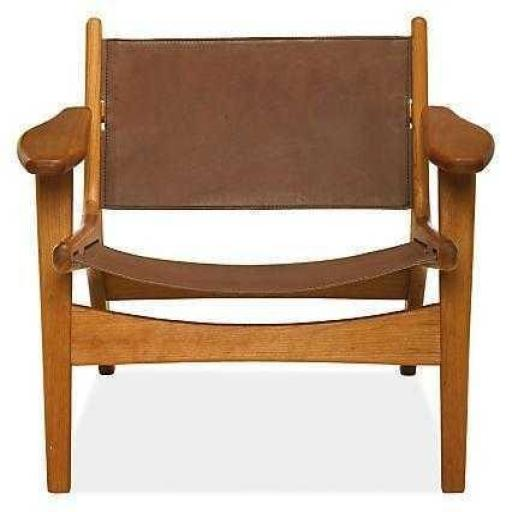chair: (14, 8, 496, 498)
